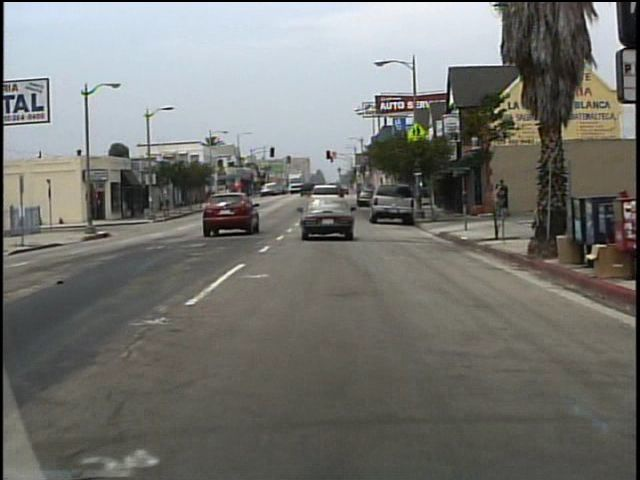person: (500, 178, 511, 216), (491, 183, 502, 217)
